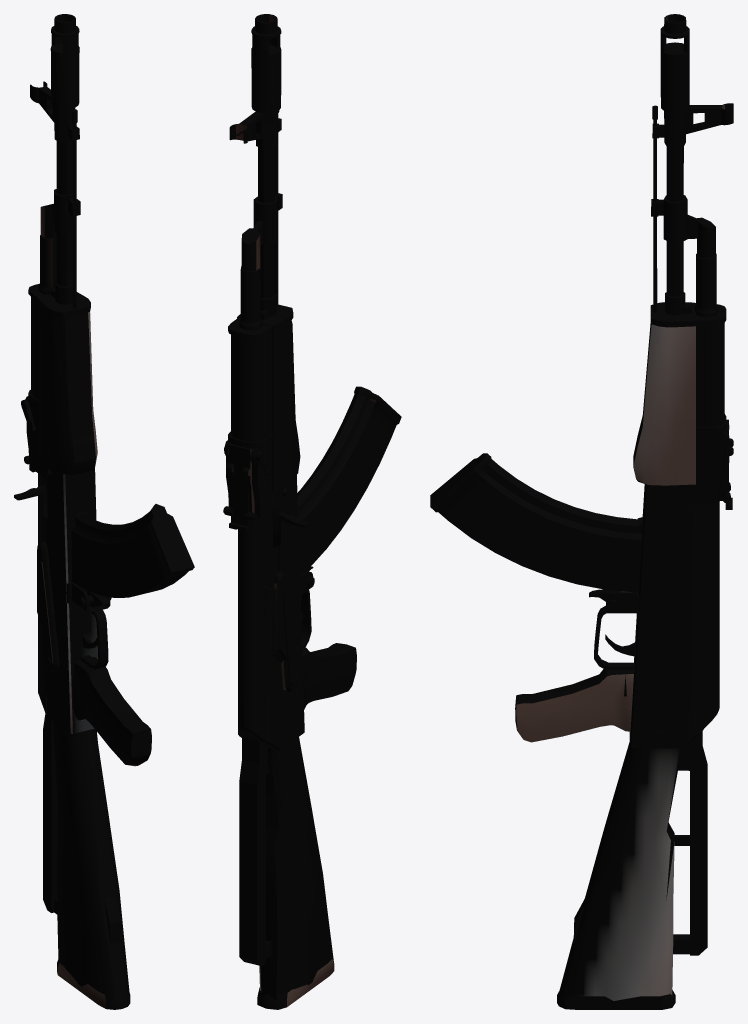
Rendered from AK74__Stock_AK_Folding.fbx.
3 views of the same model, side by side, from view 1: azimuth 30°, elevation 25°; view 2: azimuth 150°, elevation 25°; view 3: azimuth 270°, elevation 25° (orthographic). The views are drawn at different scales.
Visible parts, largest first — view 1: asset_AK74.001; view 2: asset_AK74.001; view 3: asset_AK74.001.
Boxes of the visible parts, left/top/right/bottom form: asset_AK74.001: left=14, top=14, right=194, bottom=1009; asset_AK74.001: left=223, top=14, right=401, bottom=1009; asset_AK74.001: left=430, top=14, right=733, bottom=1009.
Bounding box in the file's own units: 0.0405 × 0.564 × 0.1574.
